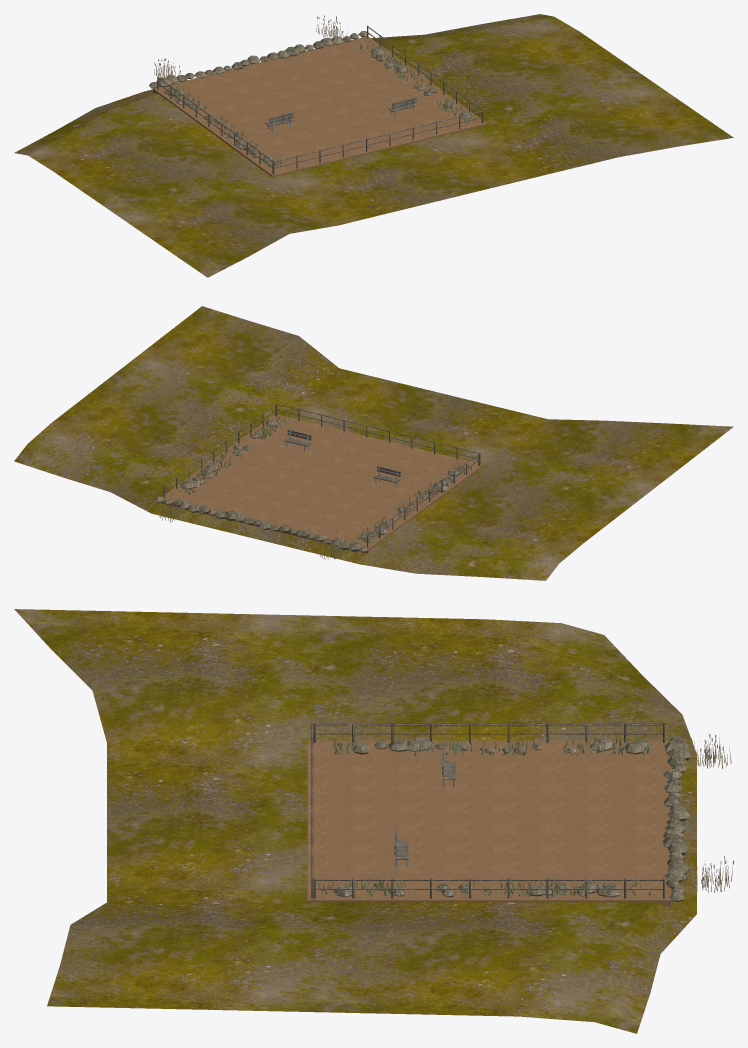
Rendered from lakeside.glb.
3 renders of one model, top to bottom at view 1: azimuth 30°, elevation 25°; view 2: azimuth 150°, elevation 25°; view 3: azimuth 270°, elevation 25°, orthographic. The views are drawn at different scales.
Parts seen in each view (by area): view 1: lakeside_BakedForeground, lakeside_grass.006; view 2: lakeside_BakedForeground, lakeside_grass.006, lakeside_reed.006; view 3: lakeside_BakedForeground, lakeside_grass.006, lakeside_reed.006.
Boxes of the visible parts, x1,y1,x2,y2 form: lakeside_BakedForeground: [14, 14, 733, 277]; lakeside_grass.006: [169, 39, 477, 168]; lakeside_BakedForeground: [14, 306, 733, 580]; lakeside_grass.006: [171, 415, 471, 540]; lakeside_reed.006: [159, 497, 348, 560]; lakeside_BakedForeground: [14, 609, 733, 1033]; lakeside_grass.006: [318, 733, 650, 896]; lakeside_reed.006: [677, 736, 733, 892].
Size of what is drawn, in the model's own units: 40 by 1.72 by 30.5.
8 materials, 4 textured.
